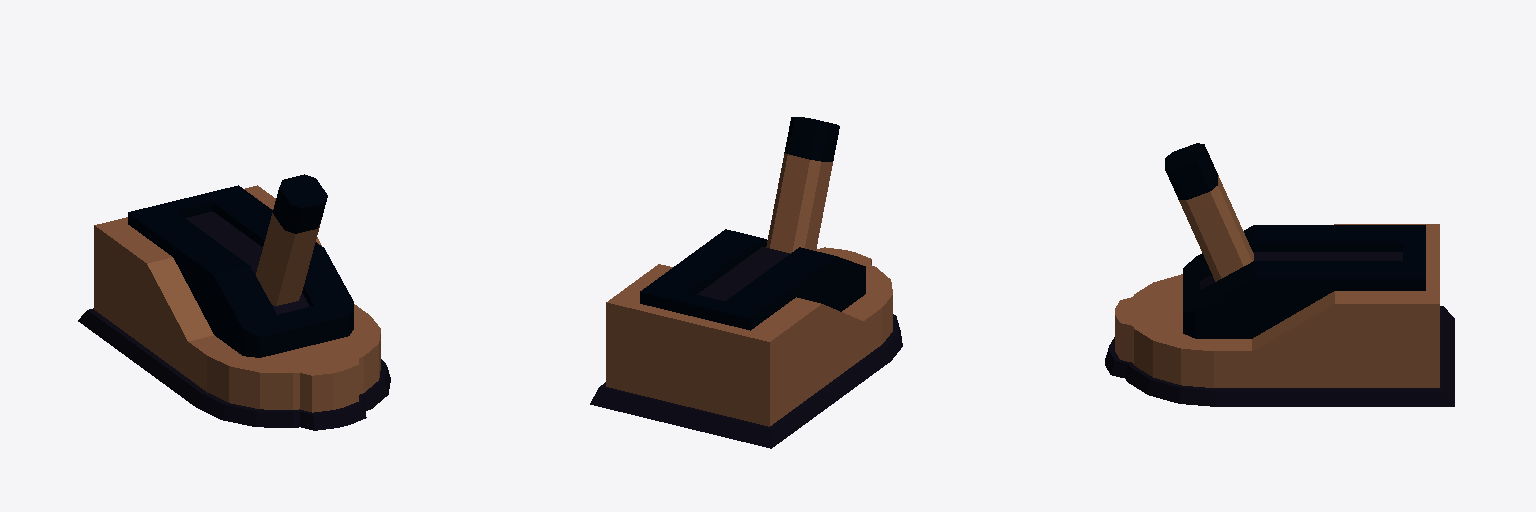
Rendered from switch.obj.
3 renders of one model, left to right at view 1: azimuth 30°, elevation 25°; view 2: azimuth 150°, elevation 25°; view 3: azimuth 270°, elevation 25°, orthographic.
Parts seen in each view (by area): view 1: Lever_Base, Lever_Top; view 2: Lever_Base, Lever_Top; view 3: Lever_Base, Lever_Top.
Boxes of the visible parts, x1,y1,x2,y2 form: Lever_Base: [78, 185, 390, 430]; Lever_Top: [256, 174, 327, 305]; Lever_Base: [590, 229, 902, 448]; Lever_Top: [766, 117, 839, 253]; Lever_Base: [1105, 224, 1454, 406]; Lever_Top: [1165, 143, 1253, 281].
Size of the model in its own units: 0.398 by 0.4457 by 0.6624.